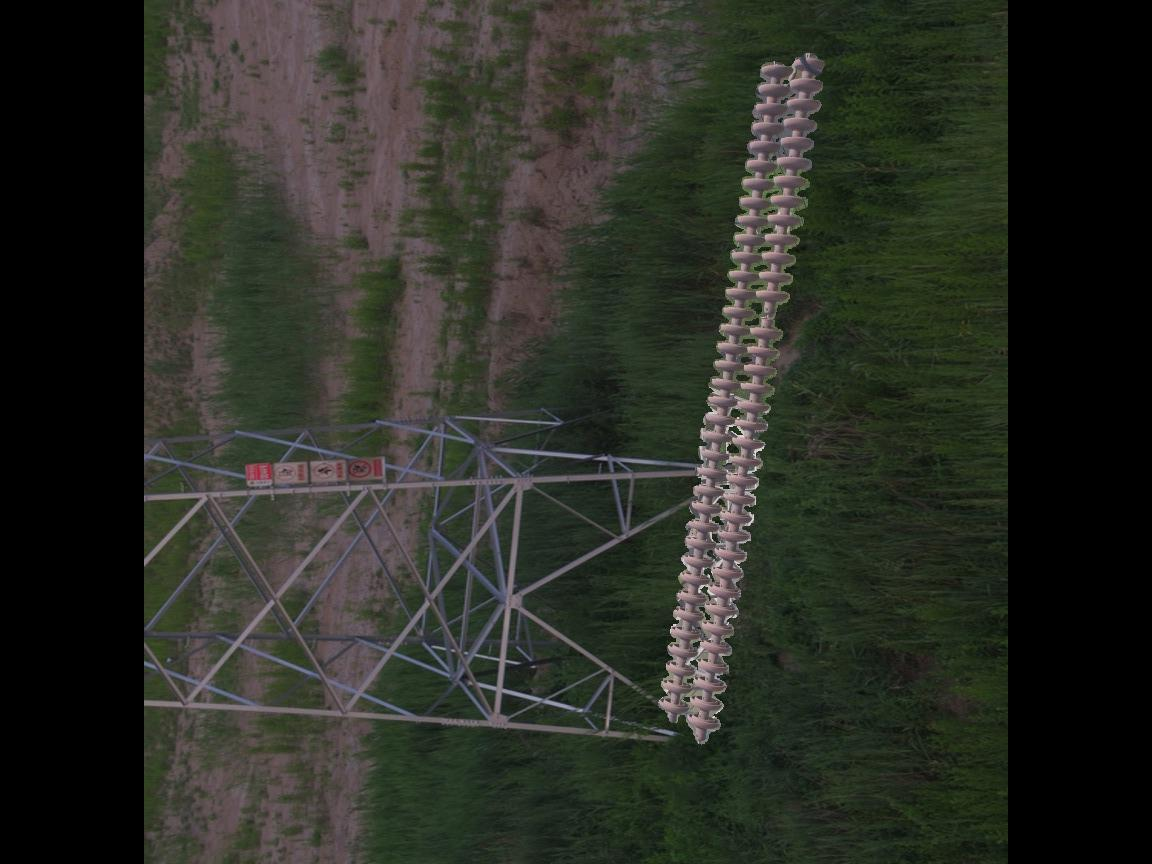insulator: (654, 44, 833, 745)
insulator_stringdrop: (746, 286, 791, 343)
